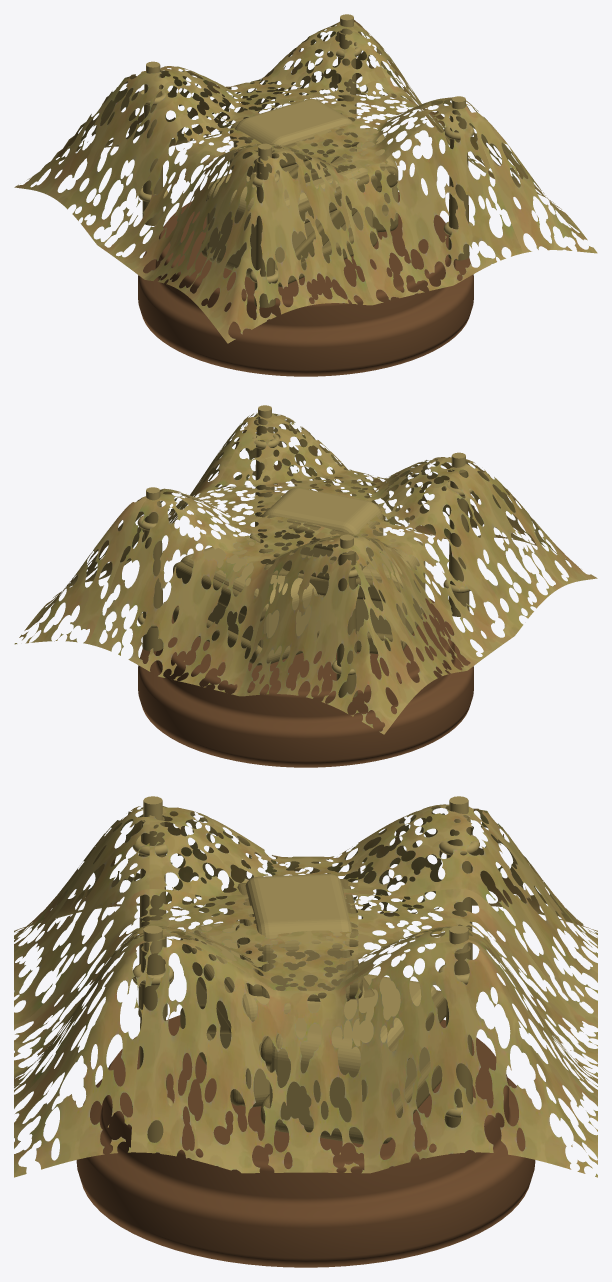
Rendered from ch5-piece-camouflage-netting.glb.
3 views of the same model, one above another, from view 1: azimuth 30°, elevation 25°; view 2: azimuth 150°, elevation 25°; view 3: azimuth 270°, elevation 25° (orthographic). The views are drawn at different scales.
Visible parts, largest first — view 1: net, base, crate_body (×3), pole (×4), crate_strap (×3), crate_brace; view 2: net, base, crate_body (×3), pole (×4), crate_strap (×4); view 3: net, base, crate_body (×3), pole (×4), crate_strap (×2).
Part boxes in pixels (x1=…): net: x1=14, y1=20, x2=597, y2=343; base: x1=138, y1=192, x2=473, y2=376; crate_body (×3): x1=206, y1=98, x2=398, y2=277; pole (×4): x1=142, y1=30, x2=469, y2=307; crate_strap (×3): x1=272, y1=128, x2=377, y2=286; crate_brace: x1=294, y1=203, x2=357, y2=262; net: x1=14, y1=413, x2=597, y2=734; base: x1=138, y1=598, x2=473, y2=767; crate_body (×3): x1=180, y1=487, x2=425, y2=665; pole (×4): x1=142, y1=420, x2=469, y2=697; crate_strap (×4): x1=173, y1=517, x2=402, y2=665; net: x1=14, y1=804, x2=597, y2=1177; base: x1=76, y1=1015, x2=535, y2=1267; crate_body (×3): x1=194, y1=873, x2=436, y2=1144; pole (×4): x1=138, y1=817, x2=472, y2=1142; crate_strap (×2): x1=180, y1=938, x2=442, y2=1143.
Bounding box in the file's own units: 0.168 × 0.0975 × 0.168.
Materials: 4 (1 with a texture image).
